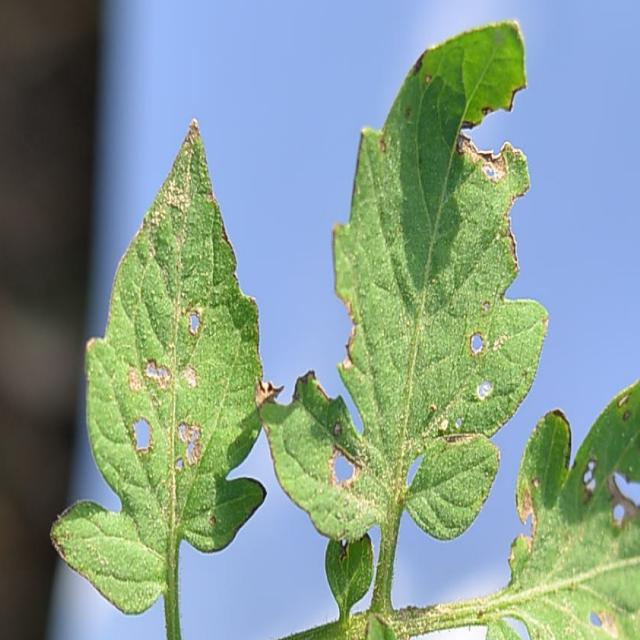infected: (451, 80, 545, 420), (517, 391, 640, 553), (120, 298, 222, 485), (264, 363, 383, 501), (574, 601, 632, 638)
